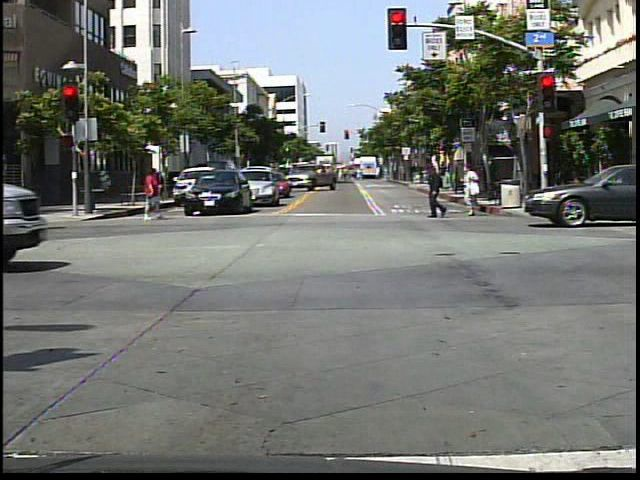person: (133, 165, 166, 225), (425, 157, 454, 221), (460, 159, 485, 221)
